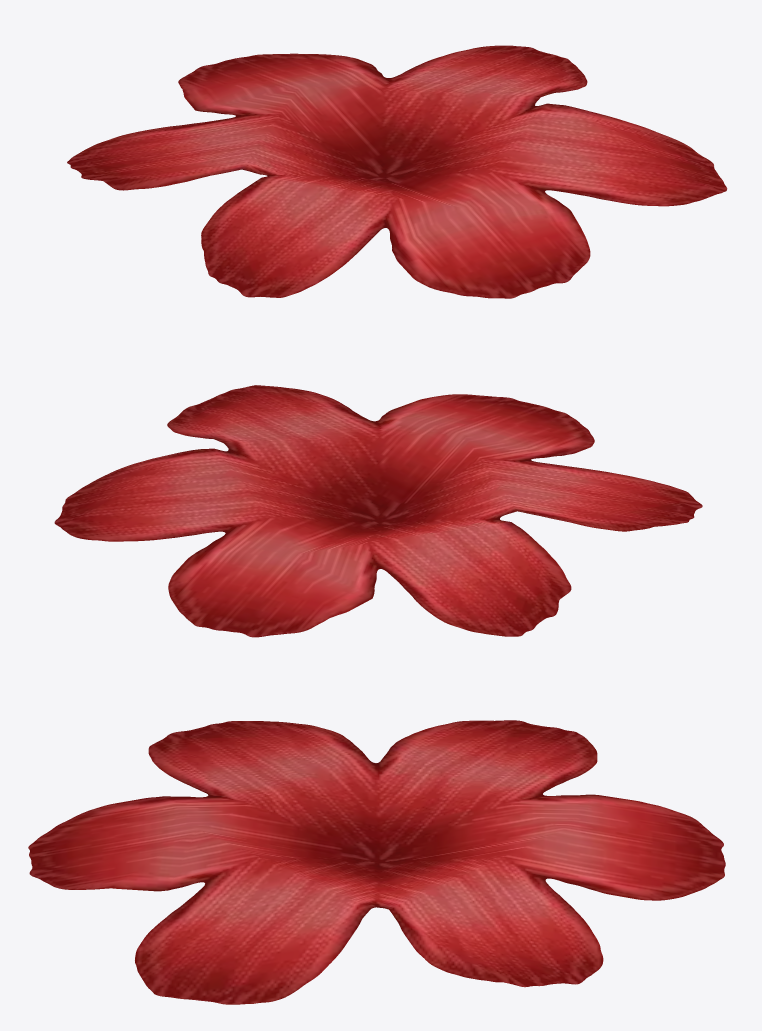
The model's file is pm-flower-02.glb.
The picture shows the model from 3 angles, top to bottom: view 1: azimuth 30°, elevation 25°; view 2: azimuth 150°, elevation 25°; view 3: azimuth 270°, elevation 25°; orthographic projection. The views are drawn at different scales.
Parts seen in each view (by area): view 1: Flower02; view 2: Flower02; view 3: Flower02.
Boxes of the visible parts, <box> form: Flower02: <box>67,45,727,298</box>; Flower02: <box>54,385,702,637</box>; Flower02: <box>28,720,725,1004</box>.
Size of the model in its own units: 0.6029 by 0.0375 by 0.6029.
Materials: 1 (1 with a texture image).
